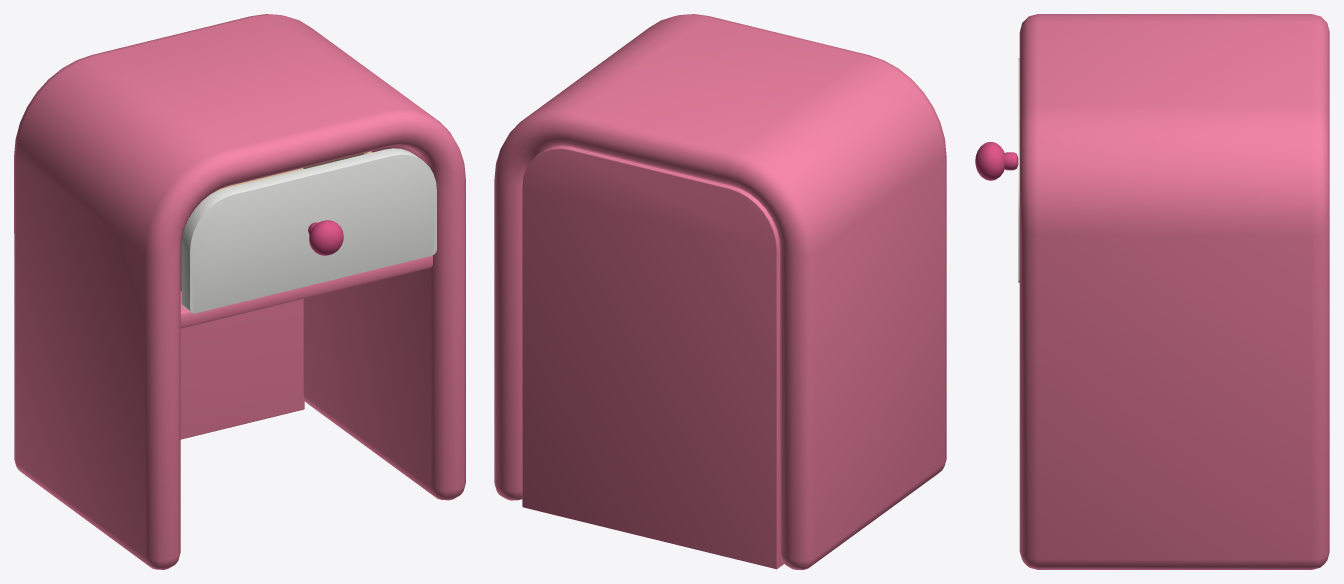
File: criado_arco_gaveta_rosa.glb
The picture shows the model from 3 angles, left to right: view 1: azimuth 30°, elevation 25°; view 2: azimuth 150°, elevation 25°; view 3: azimuth 270°, elevation 25°; orthographic projection. The views are drawn at different scales.
Visible parts, largest first — view 1: criado_arco_gaveta_rosa, gaveta_1; view 2: criado_arco_gaveta_rosa; view 3: criado_arco_gaveta_rosa, gaveta_1.
Part boxes in pixels (box(x1,y1,x2,y2)): criado_arco_gaveta_rosa: box(14, 14, 465, 569); gaveta_1: box(180, 148, 436, 313); criado_arco_gaveta_rosa: box(494, 14, 946, 569); criado_arco_gaveta_rosa: box(1019, 14, 1329, 569); gaveta_1: box(975, 58, 1019, 282).
Bounding box in the file's own units: 0.48 × 0.58 × 0.4346.
Materials: 1 (1 with a texture image).
